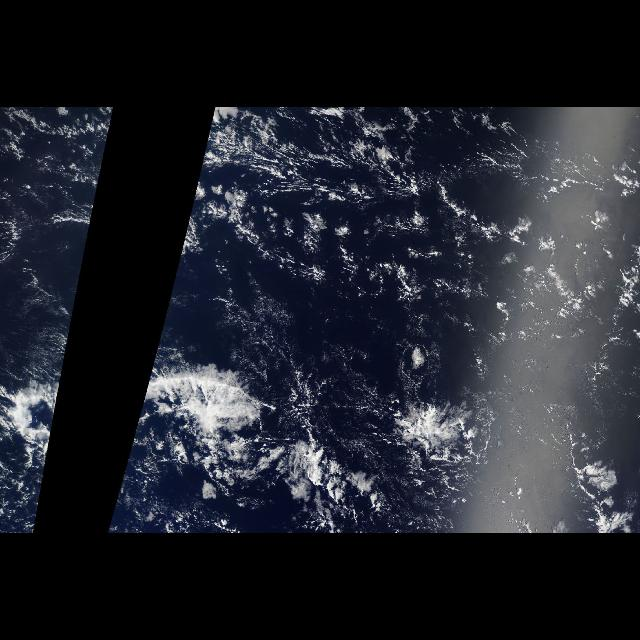Fish: (120, 344, 296, 480), (16, 344, 68, 480)
Sugar: (236, 115, 634, 342)
